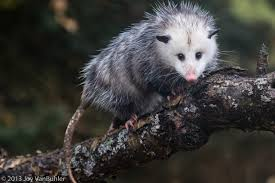opossum: (63, 1, 218, 181)
